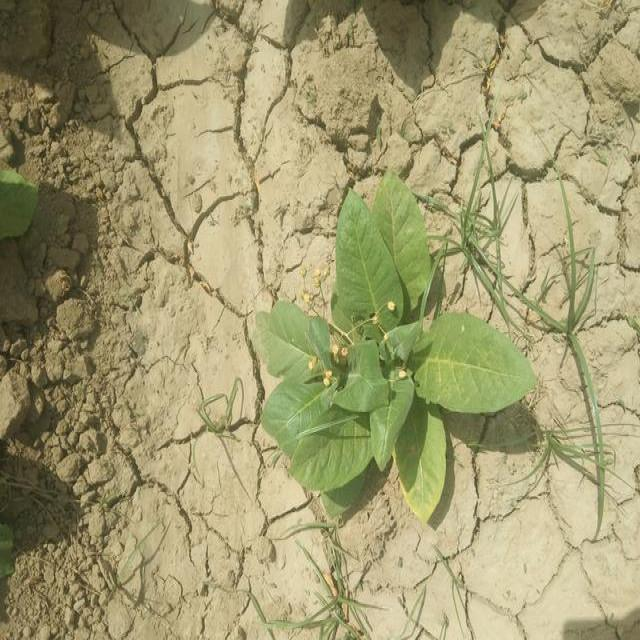crop: (256, 196, 519, 512)
